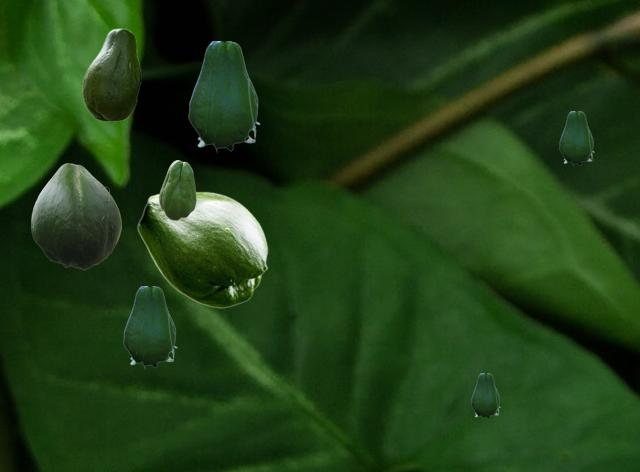sayote: (137, 191, 267, 307), (31, 163, 120, 269), (188, 41, 259, 152), (82, 28, 140, 120), (123, 286, 176, 368), (159, 160, 195, 219), (559, 111, 593, 165), (471, 373, 499, 418)
